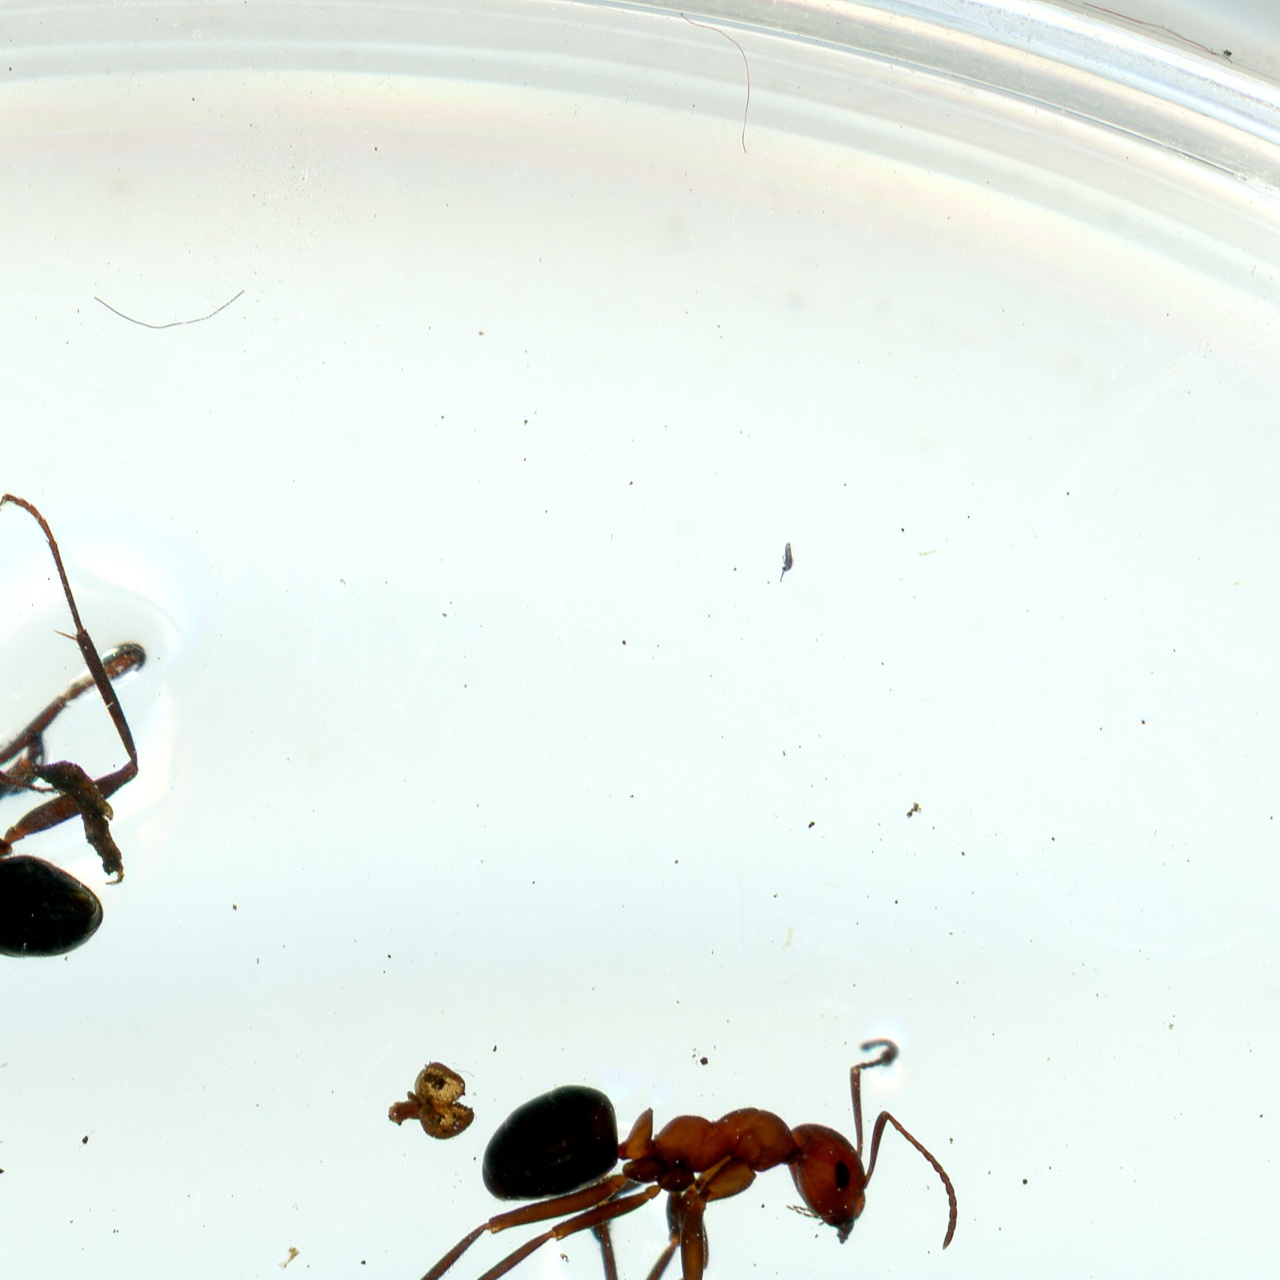arthropod: (284, 1034, 980, 1280), (0, 392, 155, 973), (774, 532, 796, 585)
